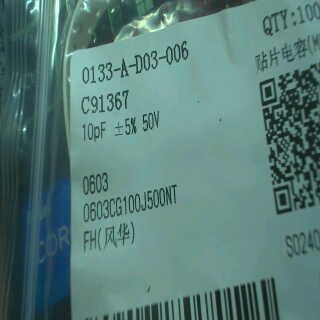10pF: (81, 121, 106, 141)
